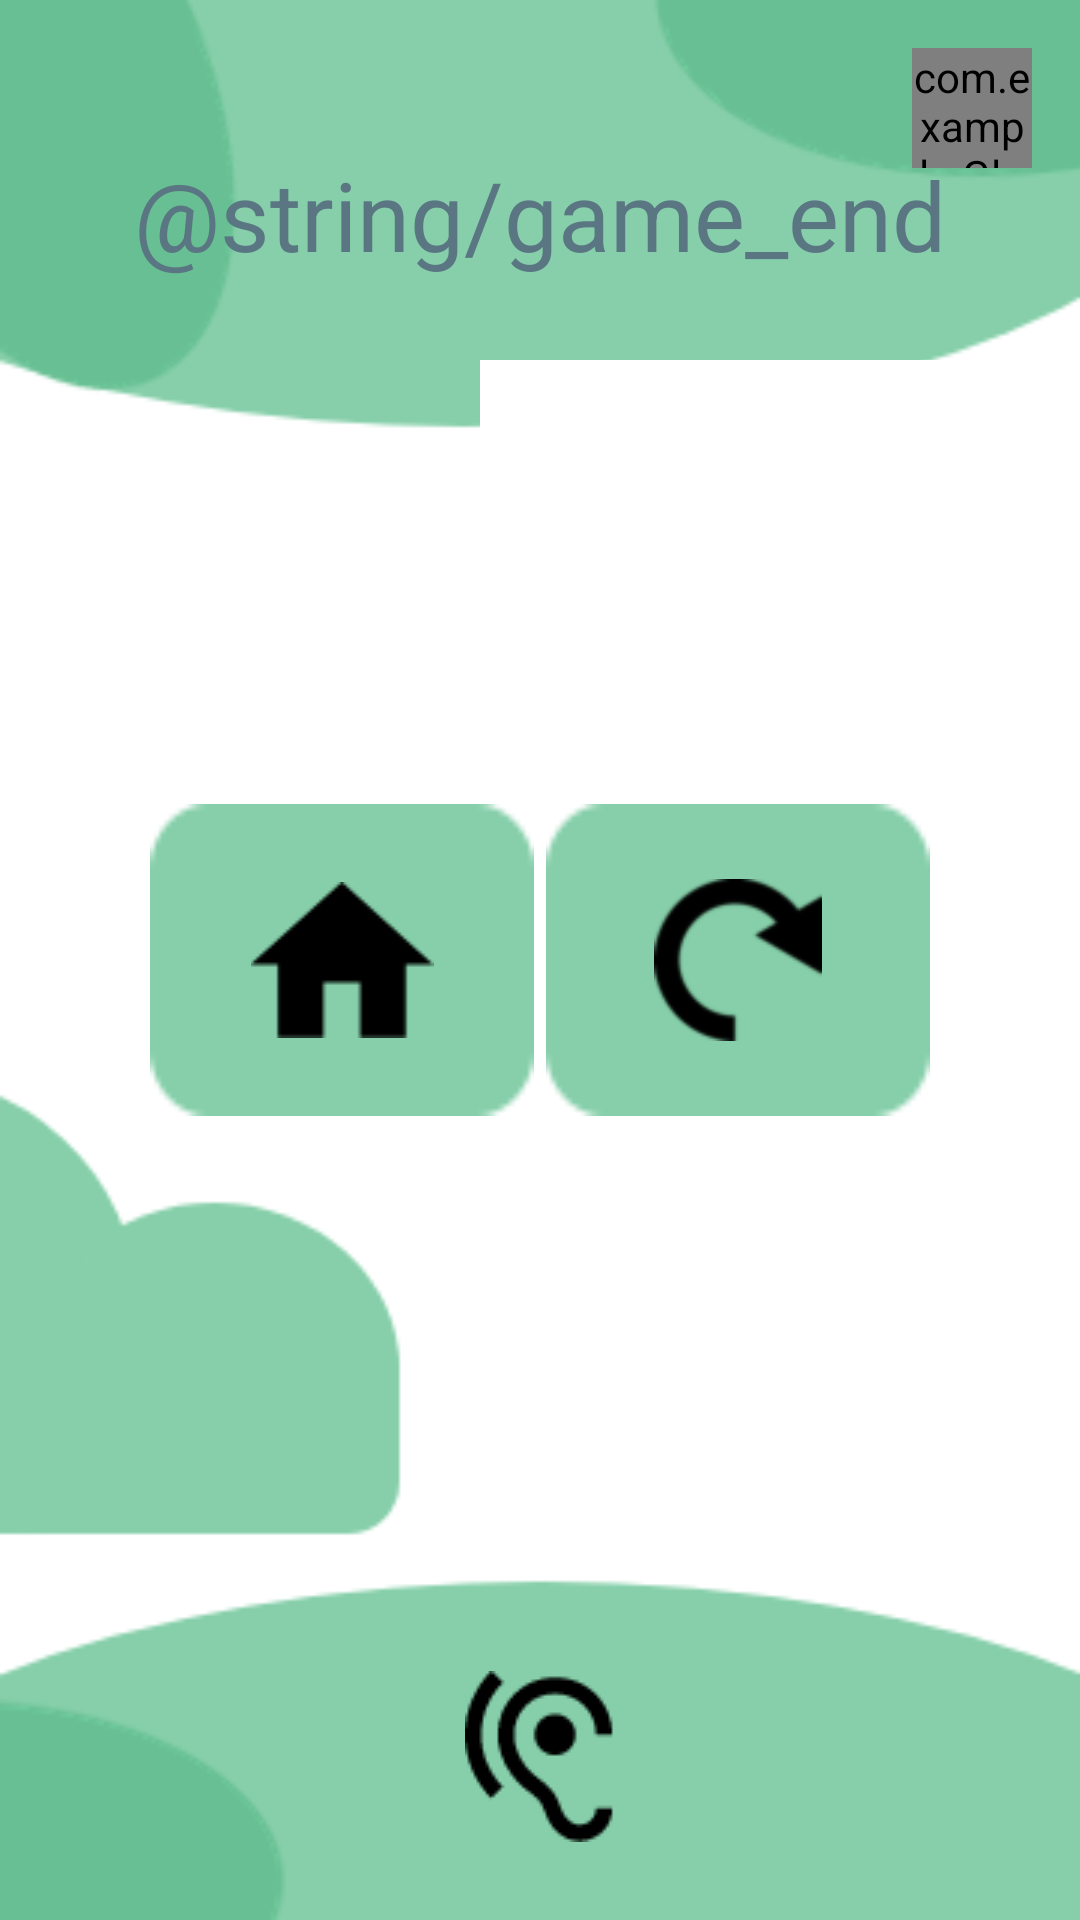

Point at icon controls on the screen. Image size 1080 x 1920, points as [x,y].
home: [342,960]
pictogram oortje: [539,1756]
redo: [738,960]
